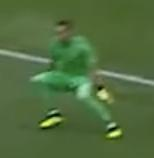goalkeeper: (21, 12, 130, 147)
